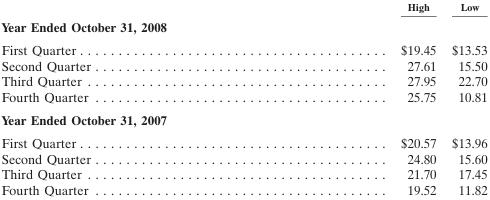table: (0, 0, 486, 197)
table column: (0, 0, 245, 197), (245, 0, 443, 197), (443, 0, 486, 197)
table column header: (0, 0, 486, 15)
table projected row header: (0, 15, 486, 38), (0, 108, 486, 131)
table row: (0, 15, 486, 38), (0, 108, 486, 131), (0, 88, 486, 108), (0, 38, 486, 57), (0, 131, 486, 150), (0, 57, 486, 73), (0, 150, 486, 166), (0, 181, 486, 197), (0, 0, 486, 15), (0, 73, 486, 88), (0, 166, 486, 181)
